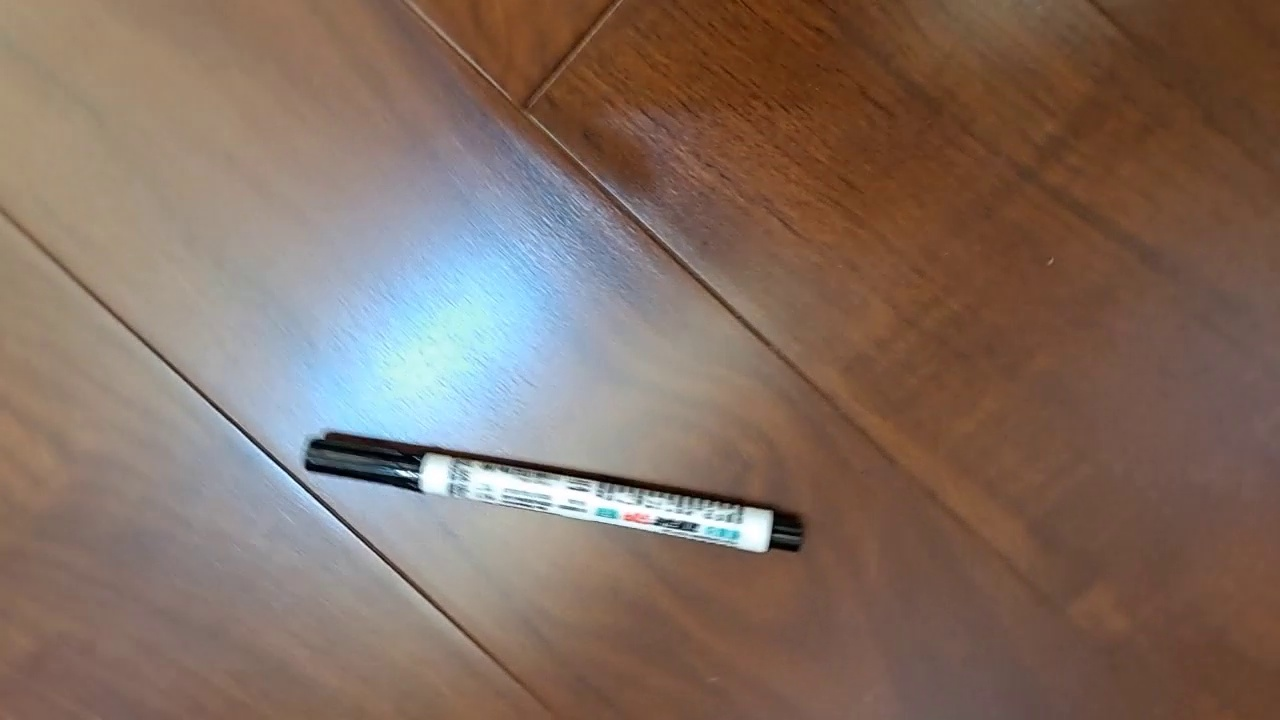pen: (302, 431, 806, 555)
